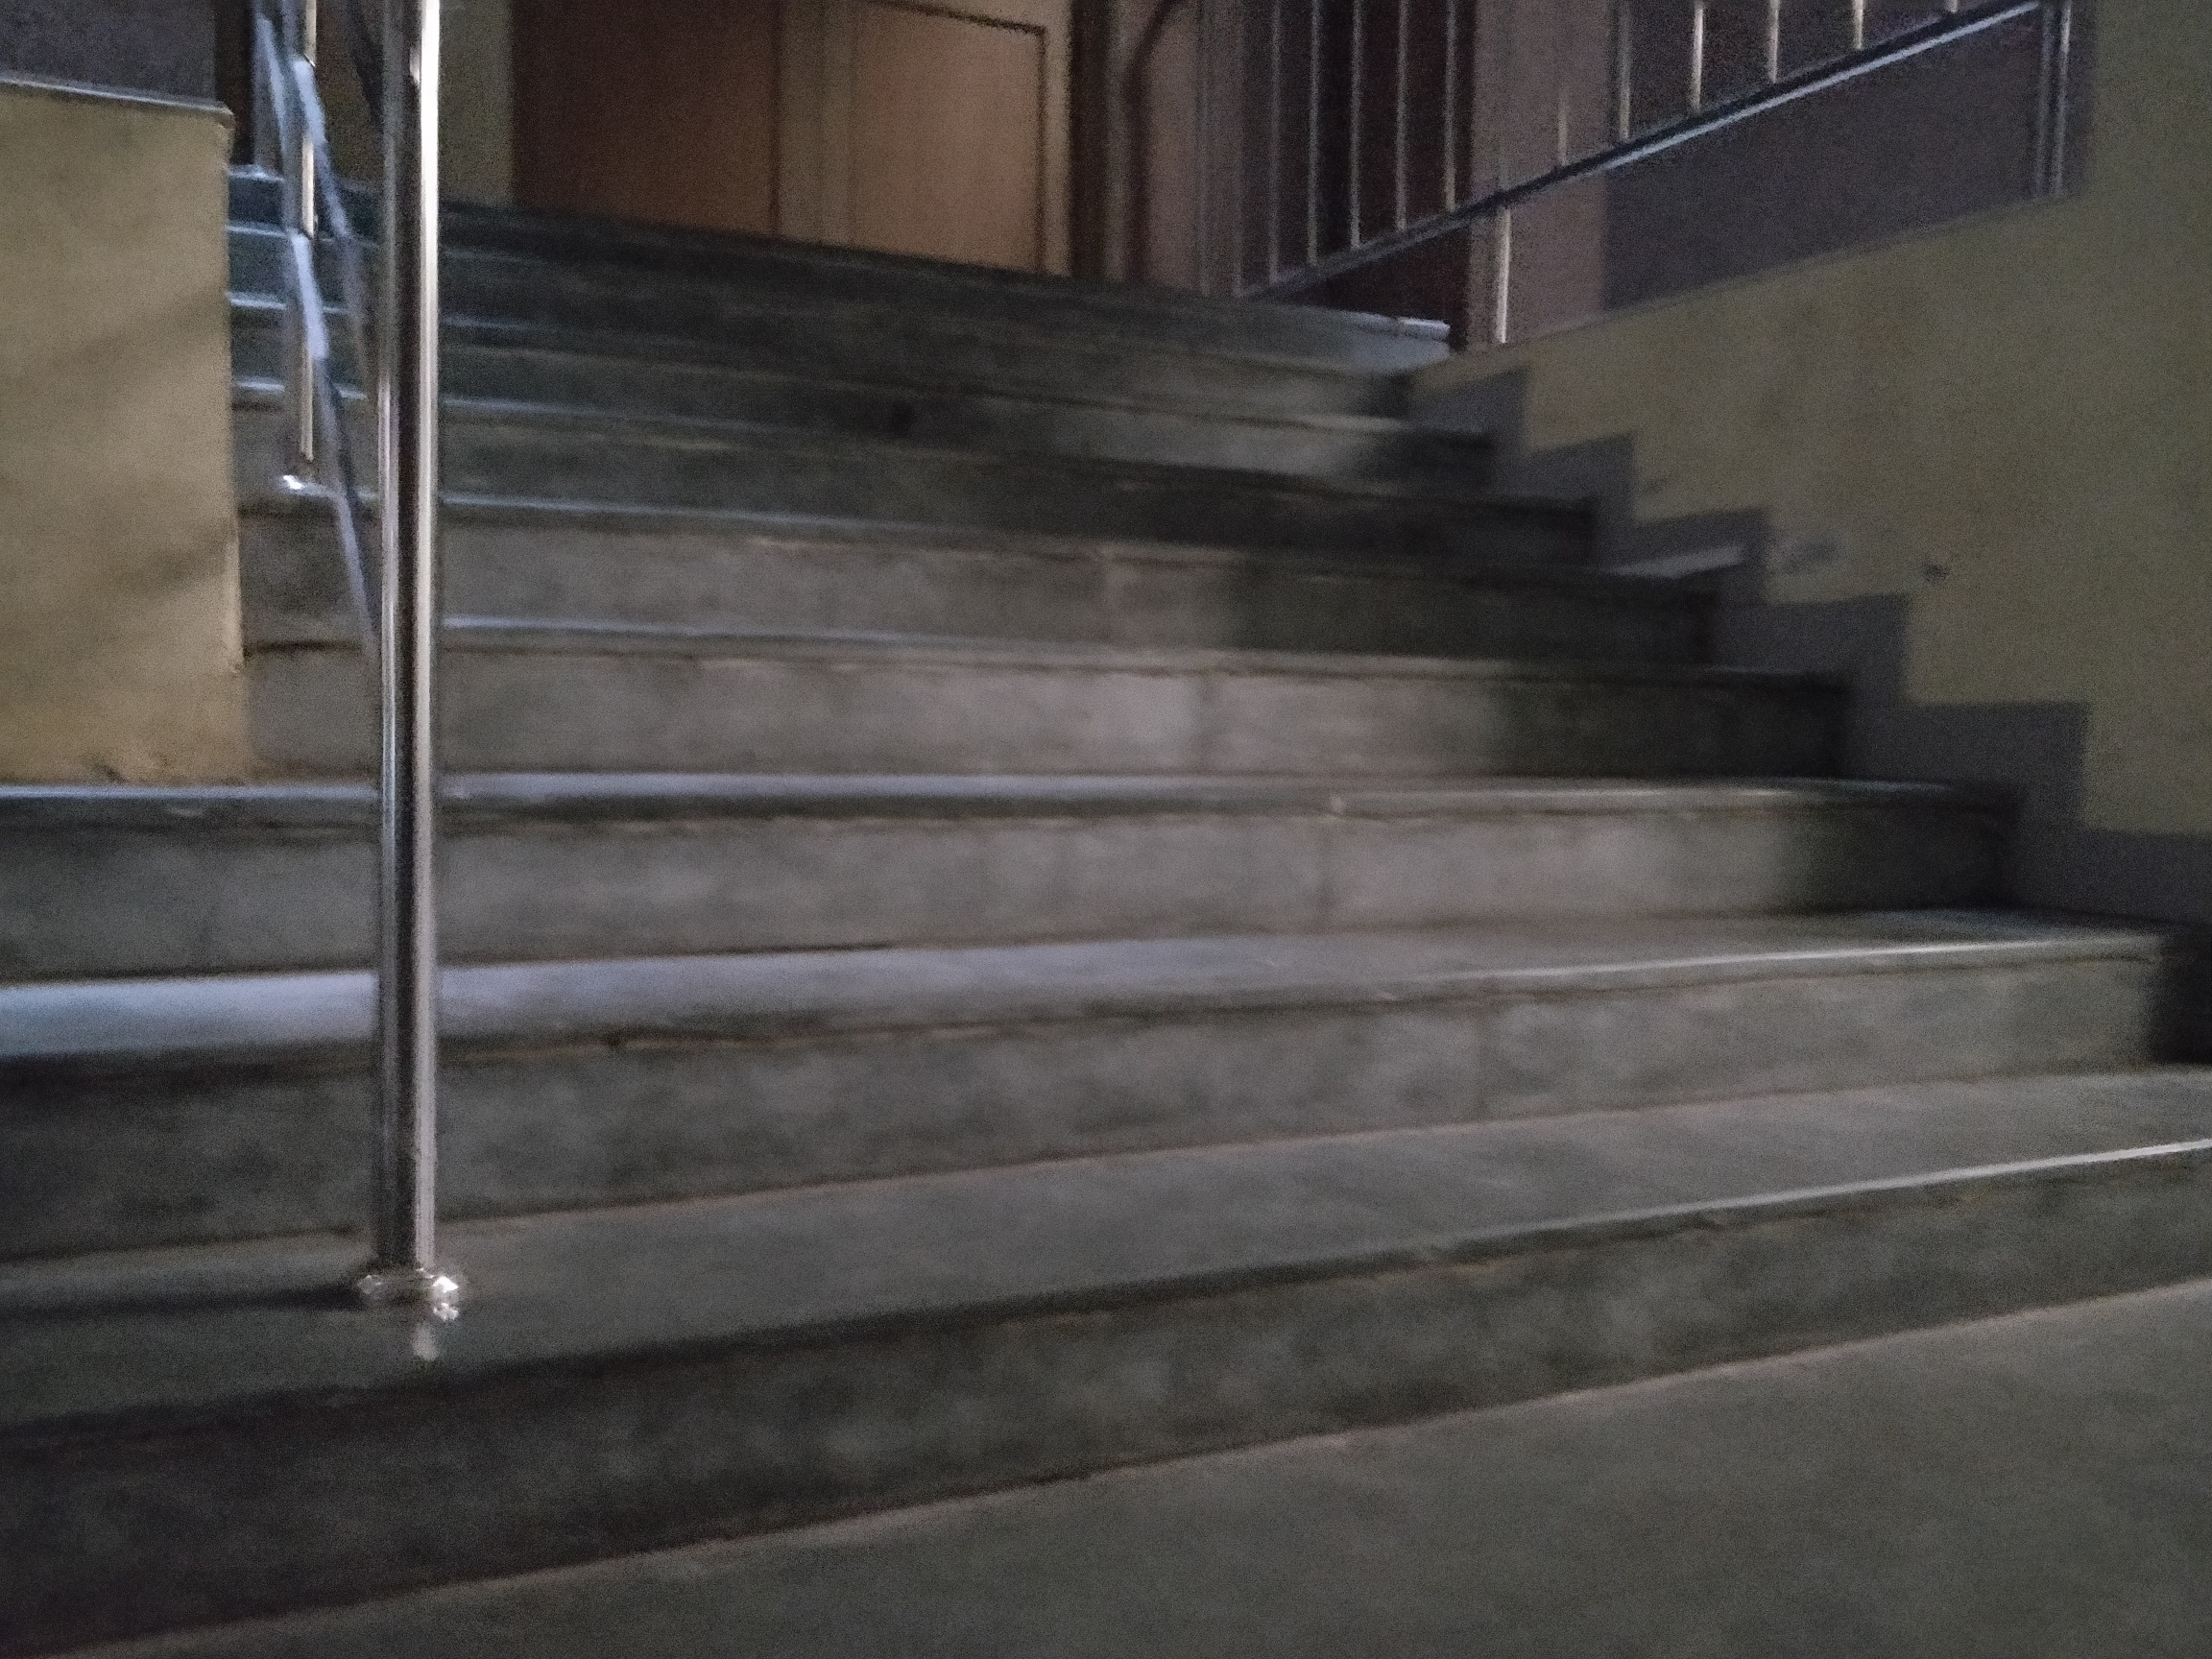stairs_up: (263, 164, 2144, 1450)
